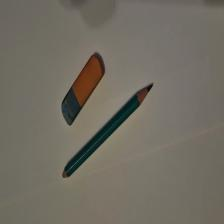eraser: (62, 56, 106, 128)
pencil: (64, 85, 155, 180)
